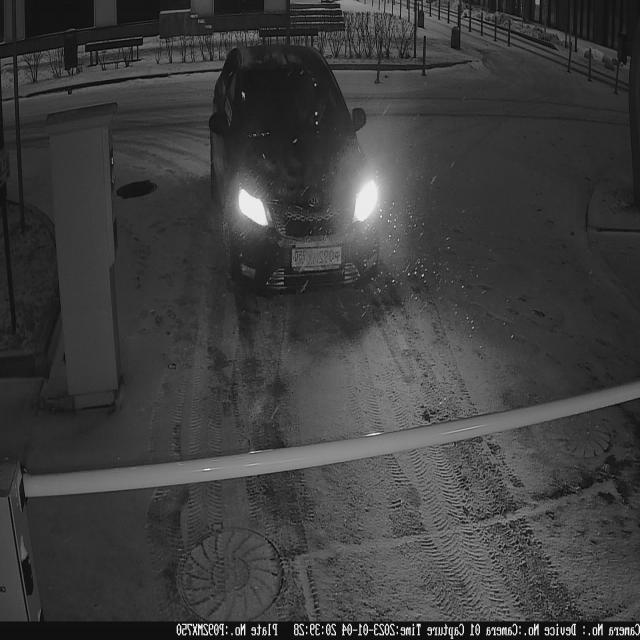car-plate-numbers: (290, 241, 345, 276)
